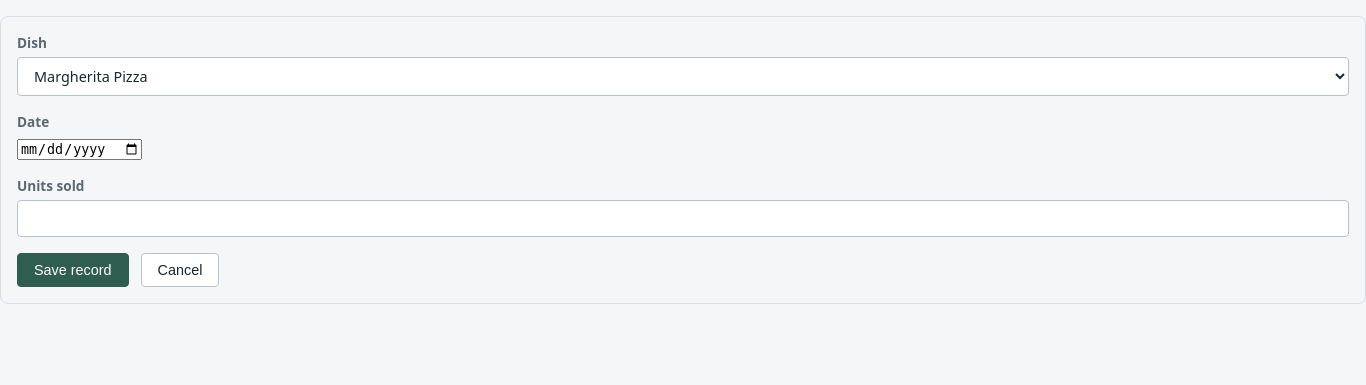
it: SalesHistoryRecordForm › blocks submit with an inline error when units sold is negative
The width and height of the screenshot is (1366, 385).
In the date field labelled "Date": {"x": 80, "y": 149} [17,139,142,160], type "2026-01-01"
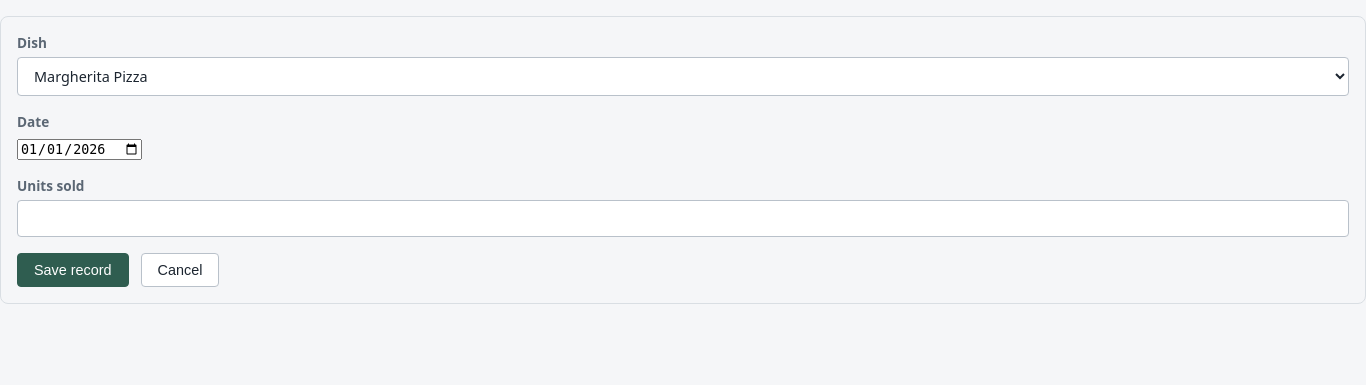
In the number field labelled "Units sold": {"x": 683, "y": 219} [17,200,1349,237], type "-1"
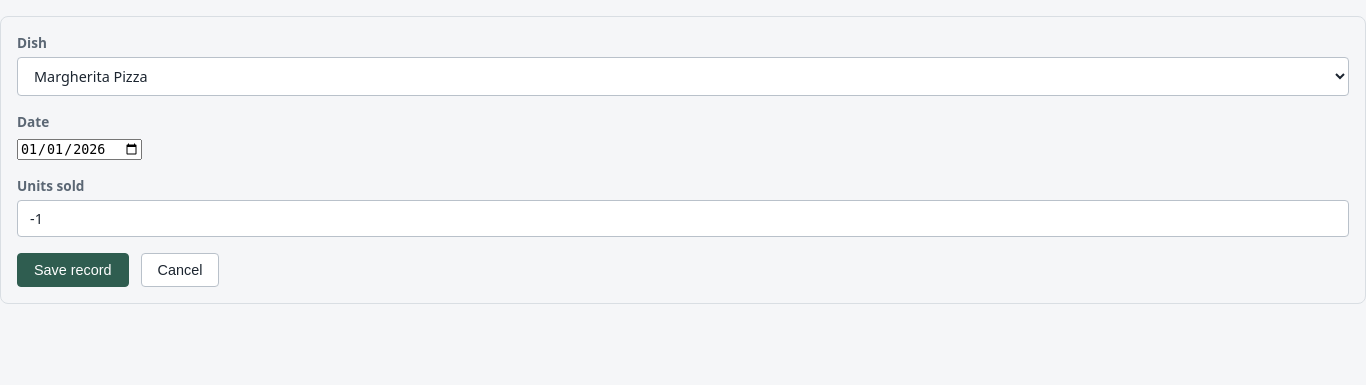
Click the button "Save record": {"x": 73, "y": 270} [17,253,129,287]
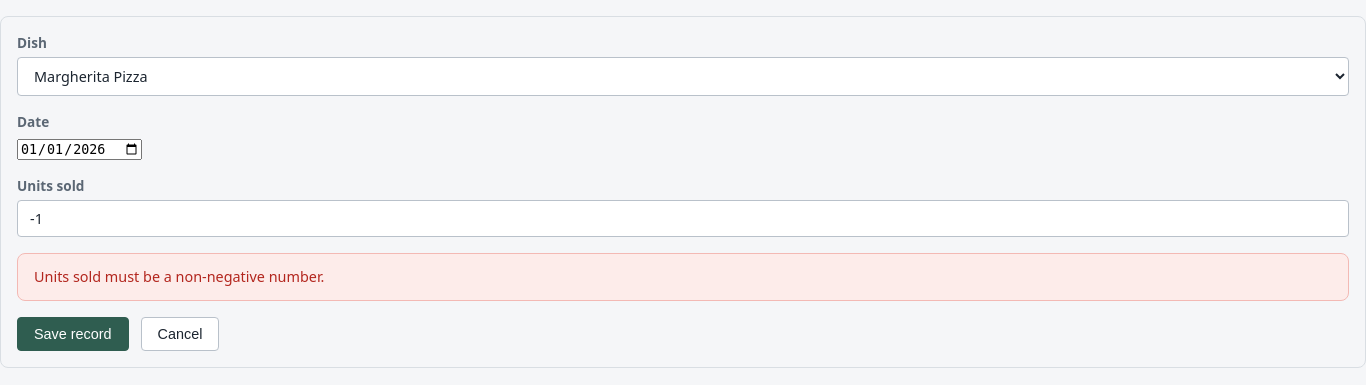
Now the message shows "non-negative", box [34,267,324,286]
